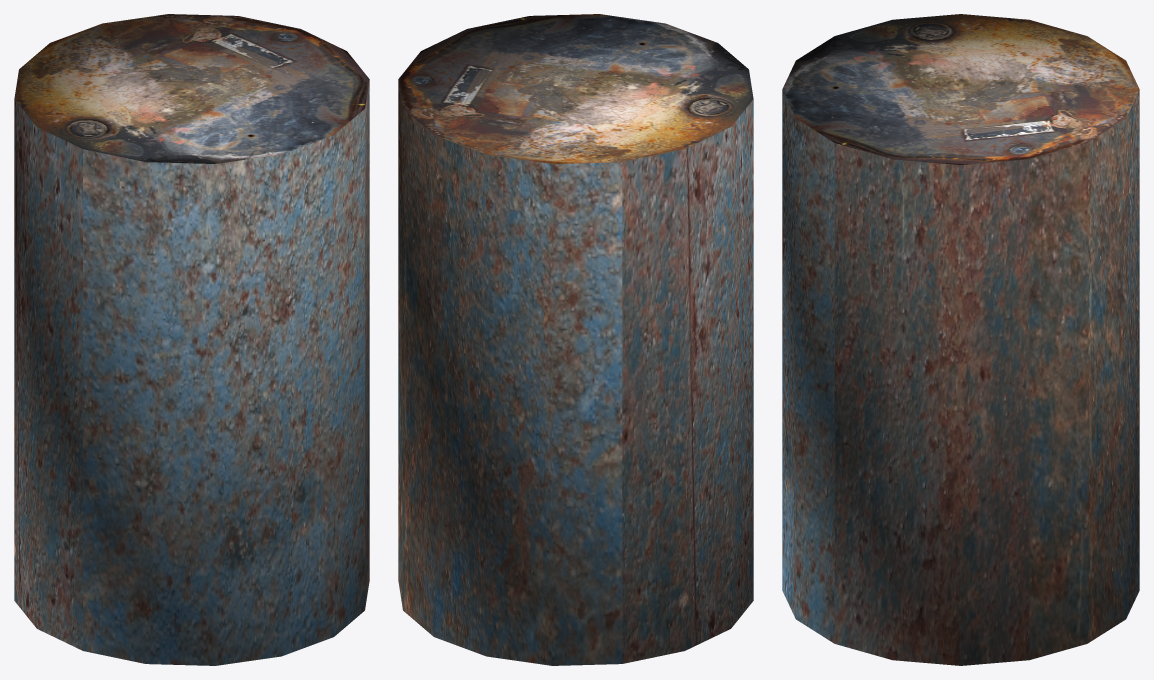
File: barrel.fbx
3 renders of one model, left to right at view 1: azimuth 30°, elevation 25°; view 2: azimuth 150°, elevation 25°; view 3: azimuth 270°, elevation 25°, orthographic.
Parts seen in each view (by area): view 1: Cylinder; view 2: Cylinder; view 3: Cylinder.
Boxes of the visible parts, x1,y1,x2,y2 form: Cylinder: [14, 14, 369, 665]; Cylinder: [398, 14, 753, 665]; Cylinder: [782, 14, 1139, 665].
Bounding box in the file's own units: 126 × 196 × 126.
